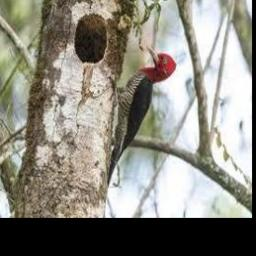Woodpecker: (107, 42, 176, 187)
